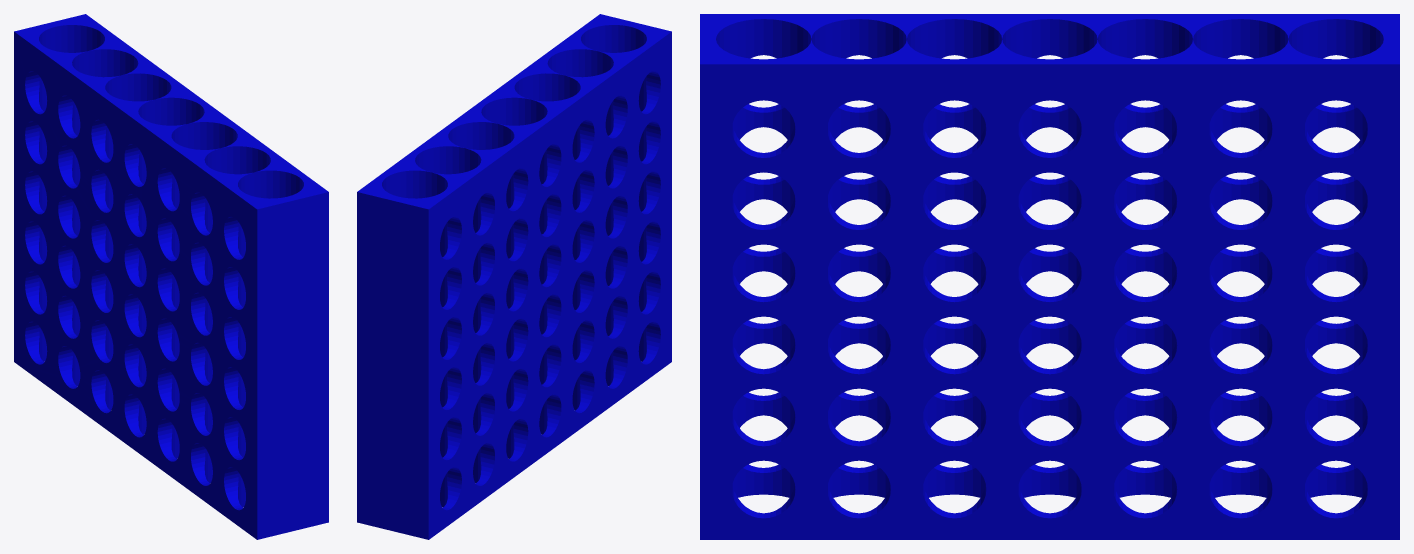
Rendered from connect4.dae.
3 renders of one model, left to right at view 1: azimuth 30°, elevation 25°; view 2: azimuth 150°, elevation 25°; view 3: azimuth 270°, elevation 25°, orthographic. The views are drawn at different scales.
Visible parts, largest first — view 1: Cube; view 2: Cube; view 3: Cube.
Part boxes in pixels (x1,y1,x2,y2): Cube: (14, 14, 328, 539); Cube: (357, 14, 671, 539); Cube: (700, 14, 1399, 539).
Bounding box in the file's own units: 1.5 × 8.8 × 6.6.
